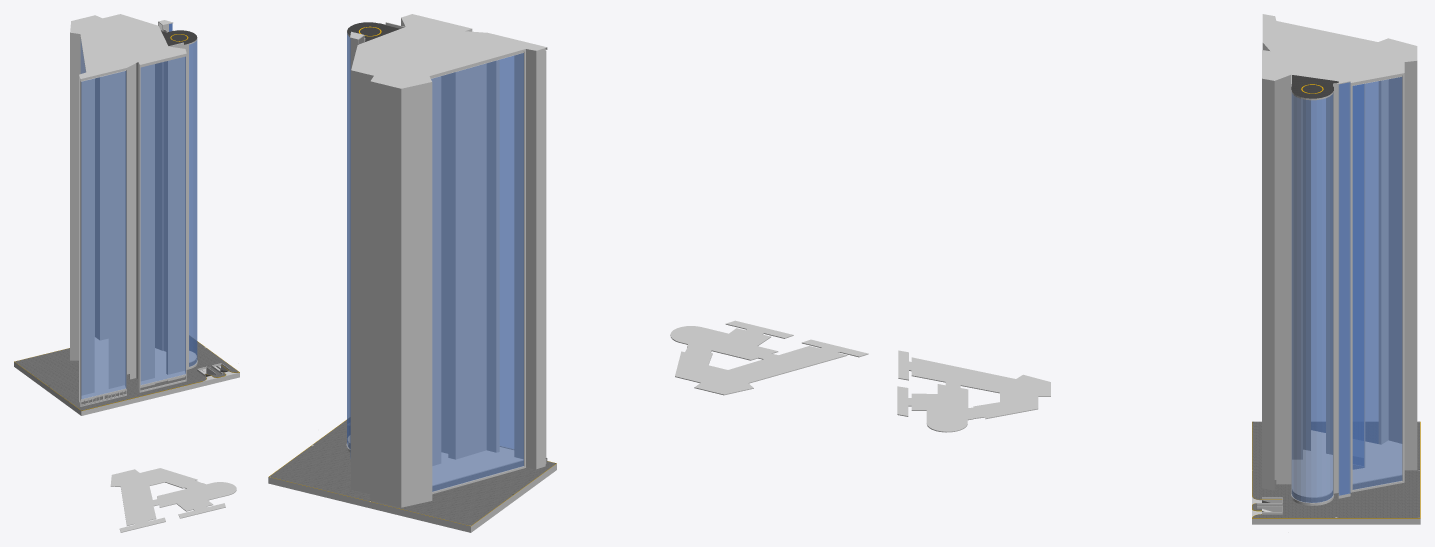
Rendered from AP subterraneo.obj.
3 renders of one model, left to right at view 1: azimuth 30°, elevation 25°; view 2: azimuth 150°, elevation 25°; view 3: azimuth 270°, elevation 25°, orthographic. The views are drawn at different scales.
Parts seen in each view (by area): view 1: Mesh1 Model, Mesh8 Model; view 2: Mesh1 Model, Mesh8 Model; view 3: Mesh1 Model, Mesh8 Model.
Boxes of the visible parts, box(x1,y1,x2,y2) form: Mesh1 Model: box(14, 14, 239, 415); Mesh8 Model: box(110, 468, 236, 532); Mesh1 Model: box(268, 14, 556, 532); Mesh8 Model: box(670, 320, 868, 395); Mesh1 Model: box(1252, 14, 1420, 524); Mesh8 Model: box(897, 350, 1050, 432).
Size of the model in its own units: 177 by 208 by 233.
8 materials, 3 textured.
